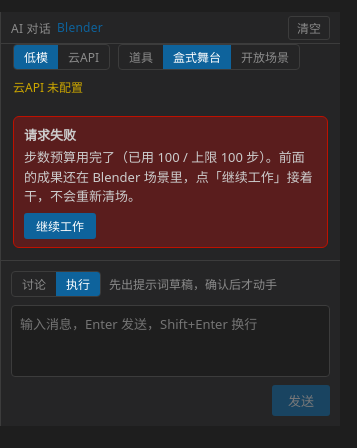
Test: ChatPanel › offers to resume work after the step budget runs out
Expected: the element with class "error-card" shows "步数", x1=13 y1=116 x2=328 y2=248
Expected: the element with class "error-card" shows "100", x1=24 y1=148 x2=313 y2=205
Click the button "继续工作" at (60,226), box x1=24 y1=212 x2=96 y2=238
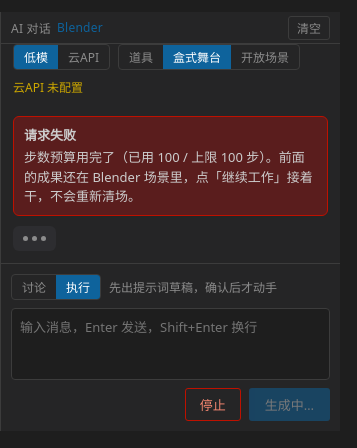
Expected: the element with class "bubble" is shown, x1=13 y1=226 x2=56 y2=250
